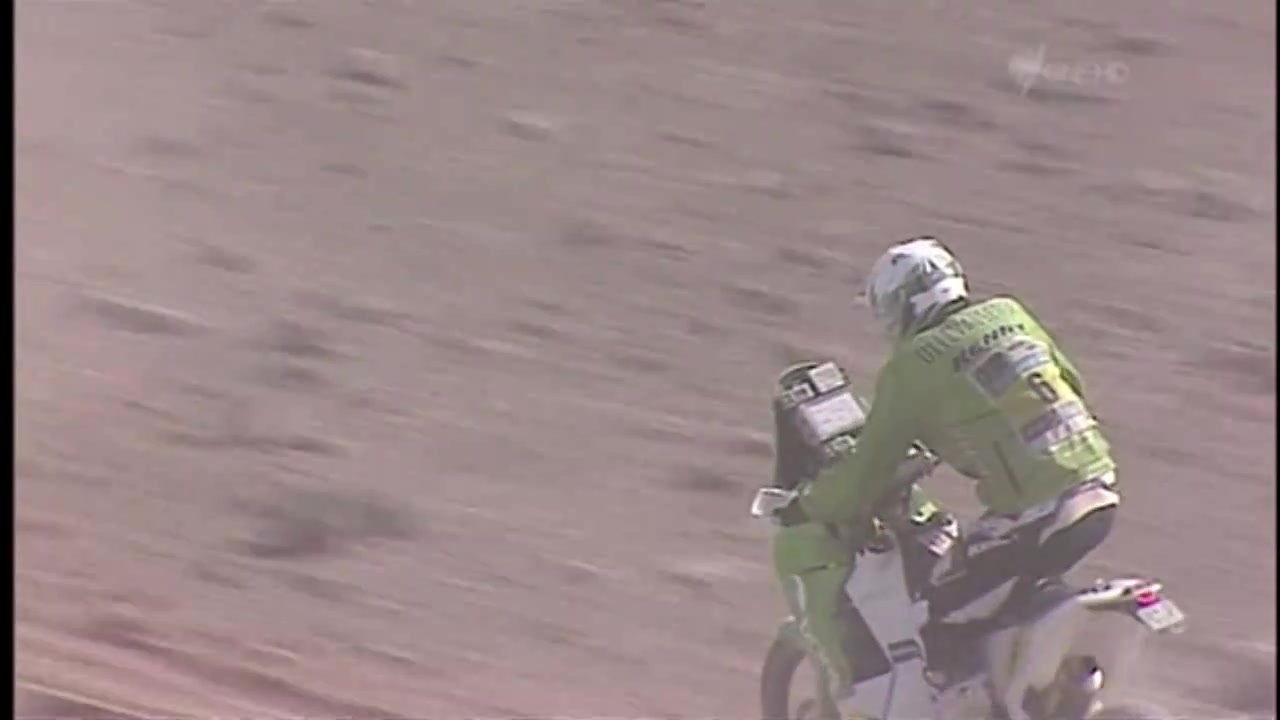motorbike: (750, 359, 1280, 720)
